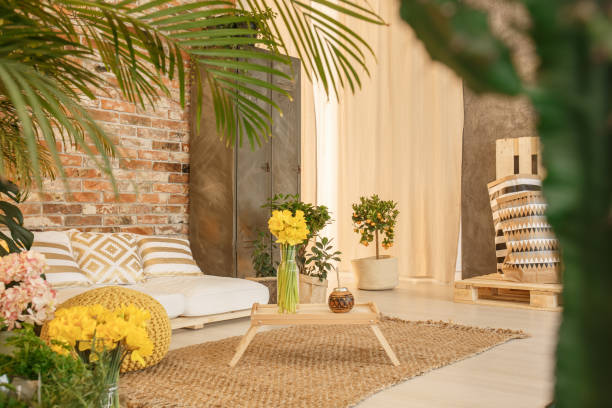flower vase: (41, 302, 153, 405), (269, 205, 311, 315)
large plant: (0, 7, 374, 167)
small plant: (348, 192, 401, 294), (304, 199, 340, 306), (248, 224, 276, 306)
sofa: (6, 222, 271, 335)
table: (226, 303, 400, 371)
